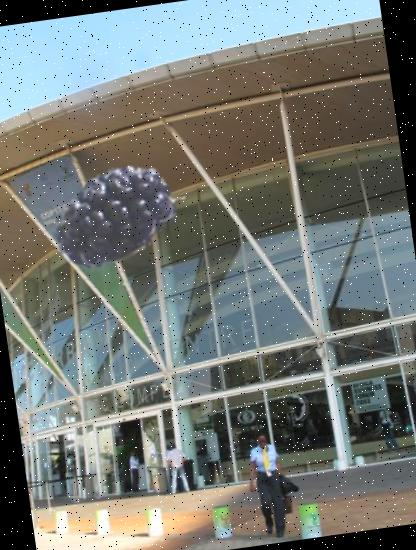Mulberry: (28, 124, 191, 287)
